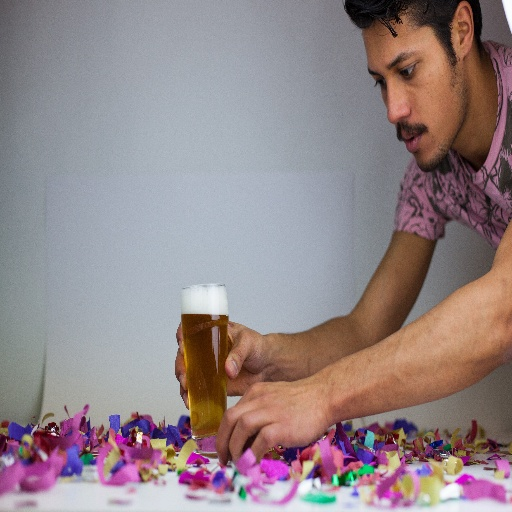hand: (215, 363, 356, 464), (173, 320, 274, 411)
